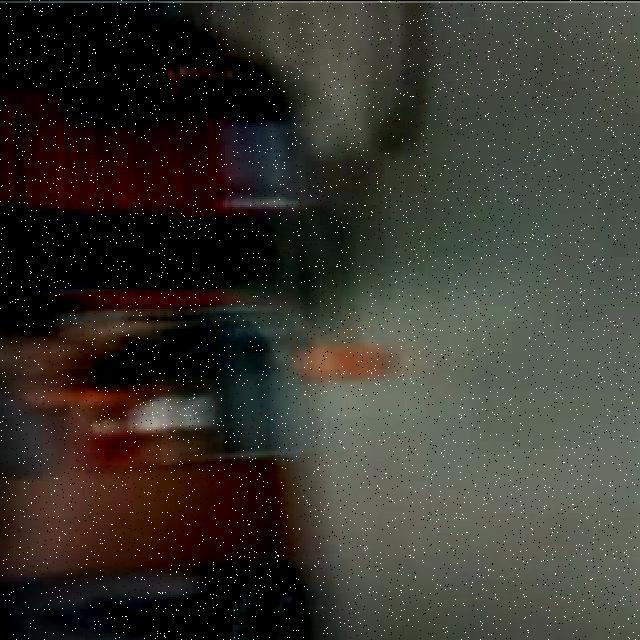ping-pong-ball: (310, 330, 396, 394)
